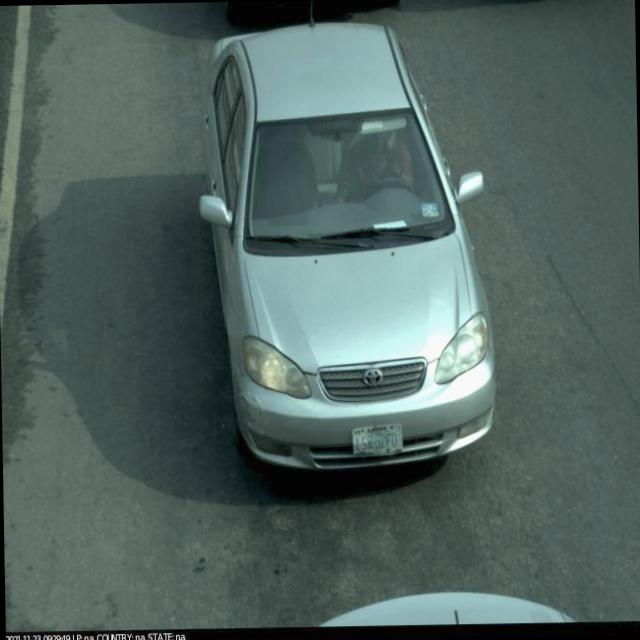person_with_seatbelt: (340, 112, 426, 218)
